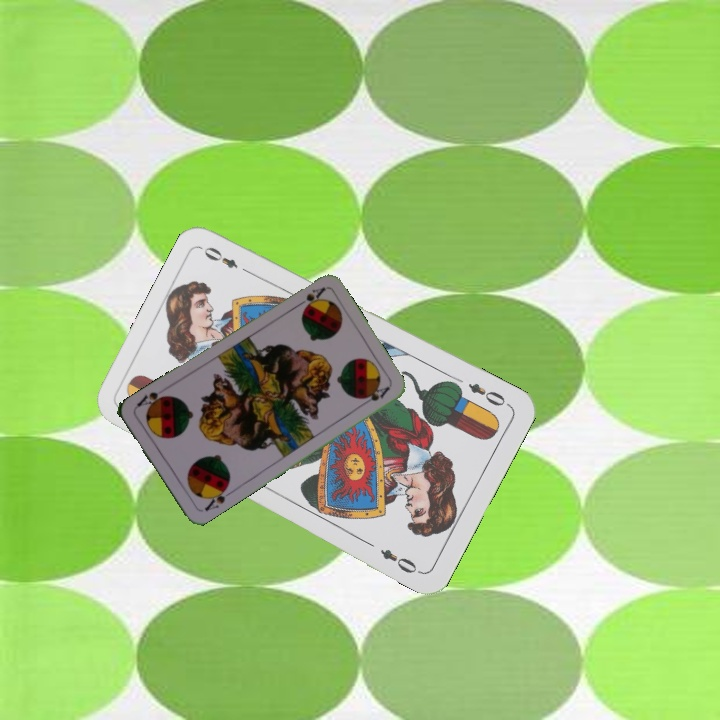EO: (464, 379, 513, 409)
SA: (200, 482, 234, 514), (291, 283, 328, 311)
